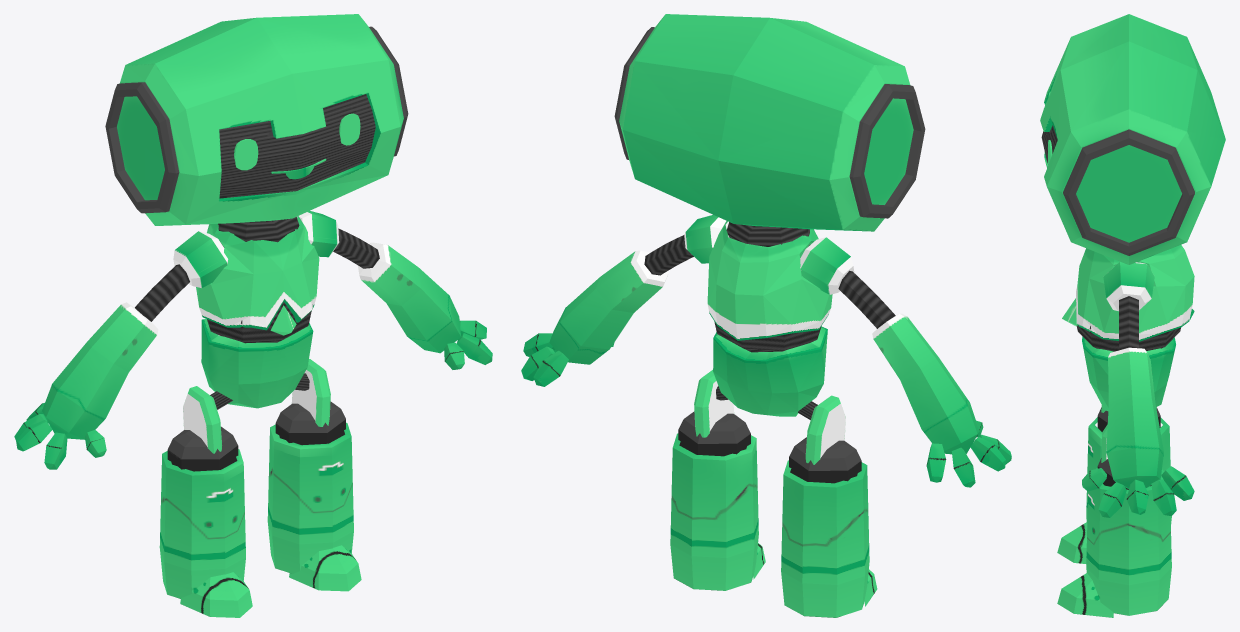
The model's file is polybot-unskinned.glb.
3 renders of one model, left to right at view 1: azimuth 30°, elevation 25°; view 2: azimuth 150°, elevation 25°; view 3: azimuth 270°, elevation 25°, orthographic. The views are drawn at different scales.
Visible parts, largest first — view 1: Polybot; view 2: Polybot; view 3: Polybot.
Boxes of the visible parts, x1,y1,x2,y2 form: Polybot: (14, 14, 492, 617); Polybot: (521, 14, 1011, 617); Polybot: (1040, 14, 1225, 617).
Bounding box in the file's own units: 0.933 × 1.06 × 0.3337.
Materials: 1 (1 with a texture image).
